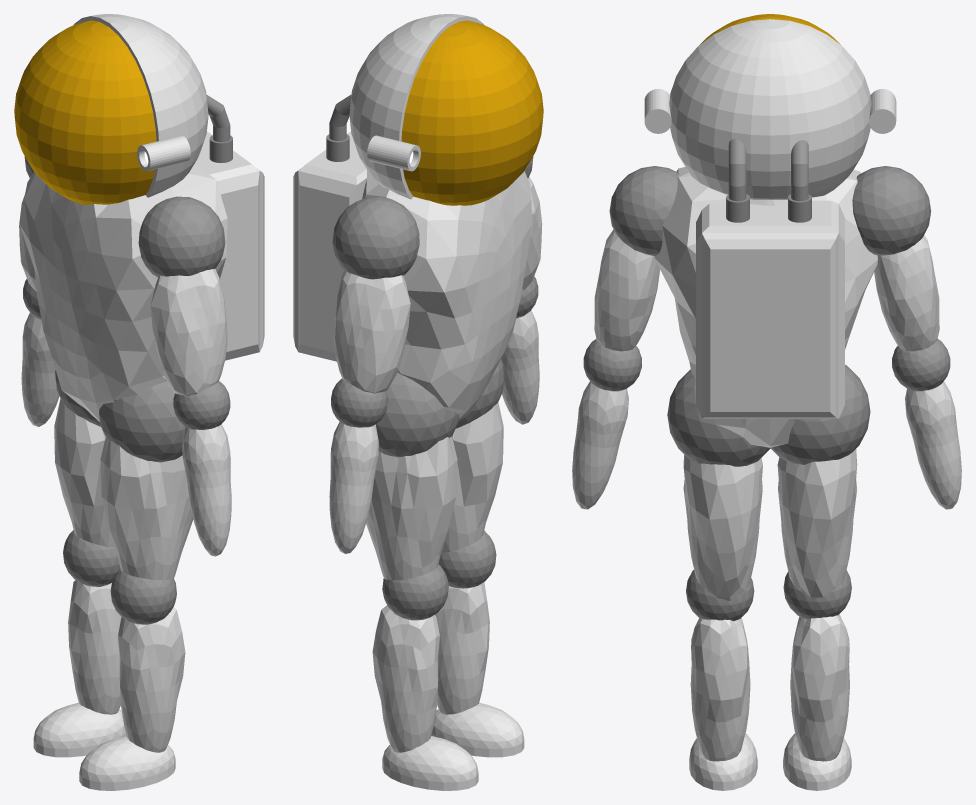
File: astronaut.fbx
3 renders of one model, left to right at view 1: azimuth 30°, elevation 25°; view 2: azimuth 150°, elevation 25°; view 3: azimuth 270°, elevation 25°, orthographic. The views are drawn at different scales.
Visible parts, largest first — view 1: Helmet, Torso, leftShoulder, leftCalf, backPack, leftQuads, rightCalf, leftElbow, rightQuads, Butt, leftFoot, rightFoot (+2 smaller); view 2: Helmet, Torso, rightShoulder, backPack, rightCalf, rightQuads, leftCalf, rightElbow, leftQuads, Butt, leftElbow, rightFoot (+2 smaller); view 3: backPack, Helmet, rightShoulder, Torso, leftShoulder, rightCalf, leftCalf, rightQuads, leftQuads, Butt, leftElbow, rightElbow (+2 smaller).
Boxes of the visible parts, x1,y1,x2,y2 form: Helmet: (14, 14, 208, 205); Torso: (19, 165, 227, 421); leftShoulder: (138, 196, 227, 395); leftCalf: (110, 569, 185, 752); backPack: (194, 94, 264, 360); leftQuads: (100, 438, 193, 579); rightCalf: (63, 530, 121, 714); leftElbow: (173, 381, 231, 556); rightQuads: (54, 398, 114, 547); Butt: (55, 369, 185, 462); leftFoot: (79, 736, 175, 790); rightFoot: (33, 702, 126, 757); Helmet: (349, 14, 543, 205); Torso: (362, 170, 531, 420); rightShoulder: (332, 196, 419, 393); backPack: (293, 94, 366, 361); rightCalf: (372, 564, 448, 752); rightQuads: (366, 436, 457, 580); leftCalf: (435, 531, 496, 714); rightElbow: (329, 378, 387, 554); leftQuads: (441, 402, 503, 552); Butt: (376, 359, 504, 457); leftElbow: (501, 276, 539, 424); rightFoot: (382, 736, 478, 790); backPack: (696, 138, 844, 418); Helmet: (644, 14, 896, 199); rightShoulder: (852, 166, 939, 351); Torso: (655, 167, 877, 447); leftShoulder: (594, 166, 679, 351); rightCalf: (783, 570, 851, 761); leftCalf: (686, 570, 754, 761); rightQuads: (777, 449, 857, 599); leftQuads: (683, 455, 762, 600); Butt: (667, 364, 870, 466); leftElbow: (572, 339, 641, 509); rightElbow: (892, 339, 961, 509).
Bounding box in the file's own units: 289 × 970 × 456.
